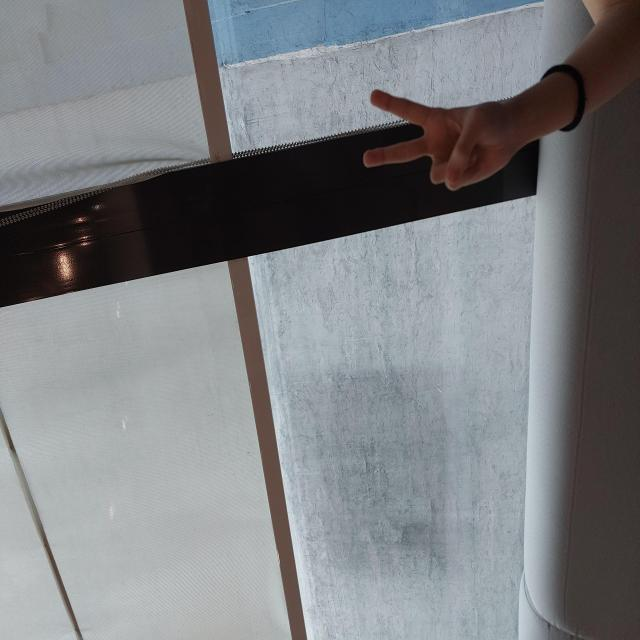V: (452, 364, 552, 511)
